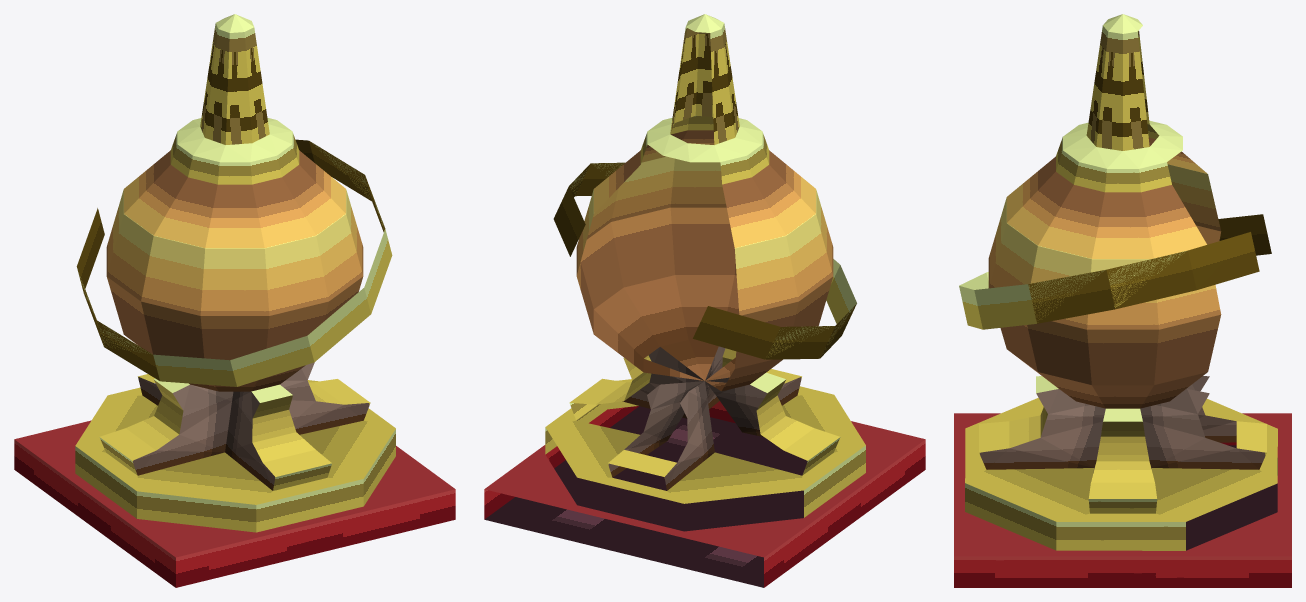
The model's file is top_bonus_2.obj.
The picture shows the model from 3 angles, left to right: view 1: azimuth 30°, elevation 25°; view 2: azimuth 150°, elevation 25°; view 3: azimuth 270°, elevation 25°; orthographic projection. The views are drawn at different scales.
Visible parts, largest first — view 1: top_bonus_2_part0; view 2: top_bonus_2_part0, top_bonus_2_part1; view 3: top_bonus_2_part0, top_bonus_2_part1.
Part boxes in pixels (box(x1,y1,x2,y2)): top_bonus_2_part0: box(14, 14, 455, 587); top_bonus_2_part0: box(484, 14, 925, 587); top_bonus_2_part1: box(484, 406, 807, 587); top_bonus_2_part0: box(954, 14, 1291, 587); top_bonus_2_part1: box(1151, 445, 1277, 550).
Size of the model in its own units: 256 by 420 by 256.
2 materials, 2 textured.
